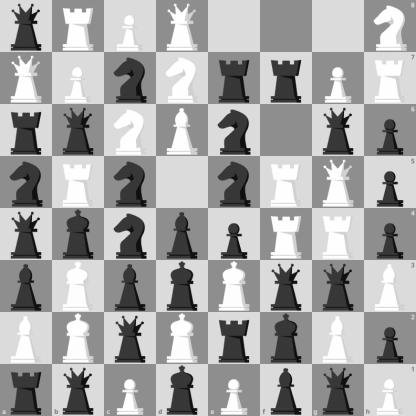B: (364, 260, 416, 312), (1, 313, 52, 364), (157, 105, 208, 156), (313, 313, 364, 364)
K: (53, 261, 104, 312), (53, 313, 104, 364), (157, 313, 208, 364), (209, 261, 260, 312)
N: (364, 0, 416, 52), (105, 105, 156, 156), (157, 53, 208, 104)
P: (104, 364, 156, 416), (364, 364, 416, 416), (209, 364, 260, 416), (53, 53, 104, 104), (105, 1, 156, 52), (313, 53, 364, 104)
Q: (1, 53, 52, 104), (157, 1, 208, 52), (313, 157, 364, 208)
R: (364, 52, 416, 104), (53, 1, 104, 52), (53, 157, 104, 208), (261, 157, 312, 208), (261, 209, 312, 260), (313, 209, 364, 260)
b: (260, 364, 312, 416), (1, 261, 52, 312), (105, 261, 156, 312), (157, 209, 208, 260)
board: (0, 0, 415, 415)
k: (156, 364, 209, 416), (53, 209, 104, 260), (157, 261, 208, 312), (261, 313, 312, 364)
n: (1, 157, 52, 208), (105, 53, 156, 104), (105, 157, 156, 208), (105, 209, 156, 260), (209, 105, 260, 156), (209, 157, 260, 208)
p: (364, 156, 416, 209), (364, 104, 416, 156), (364, 312, 416, 364), (364, 209, 416, 260), (209, 209, 260, 260)
q: (52, 364, 104, 416), (312, 364, 364, 416), (1, 1, 52, 52), (1, 209, 52, 260), (53, 105, 104, 156), (105, 313, 156, 364), (261, 261, 312, 312), (313, 105, 364, 156), (313, 261, 364, 312)
r: (0, 364, 52, 416), (1, 105, 52, 156), (209, 53, 260, 104), (209, 313, 260, 364), (261, 53, 312, 104)
